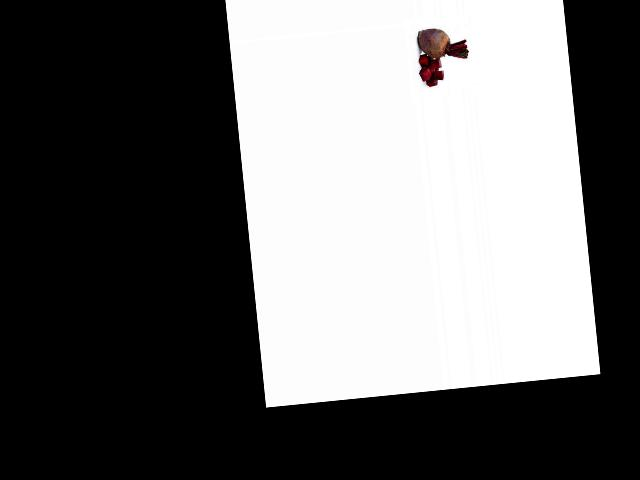beet: (416, 25, 468, 63)
